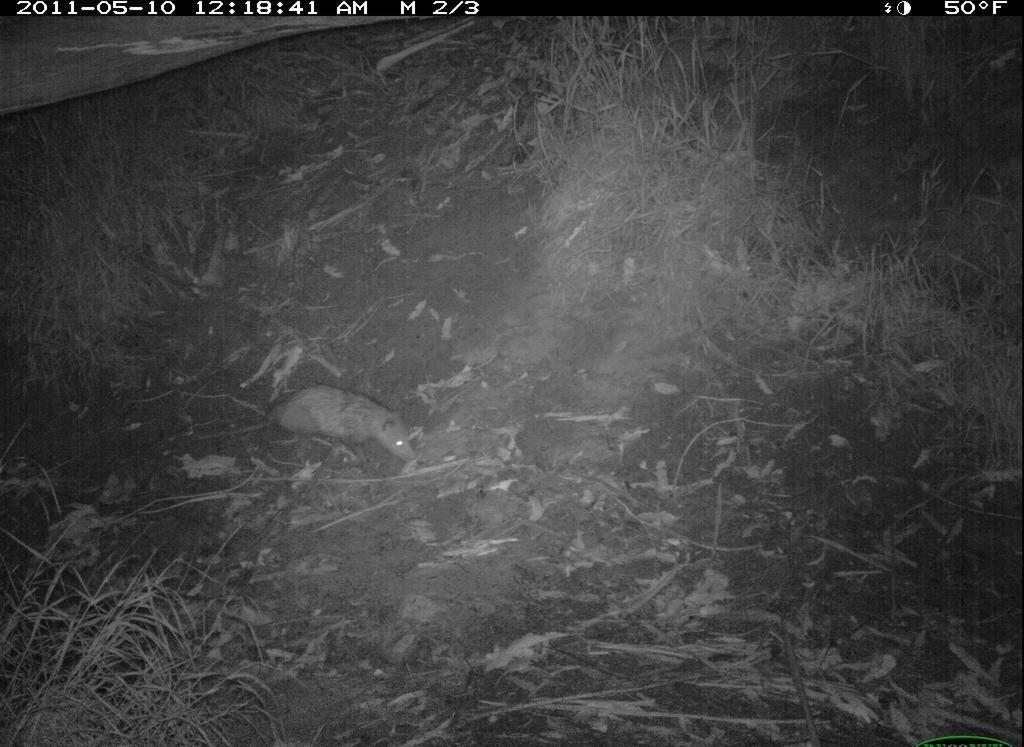opossum: (242, 377, 429, 524)
